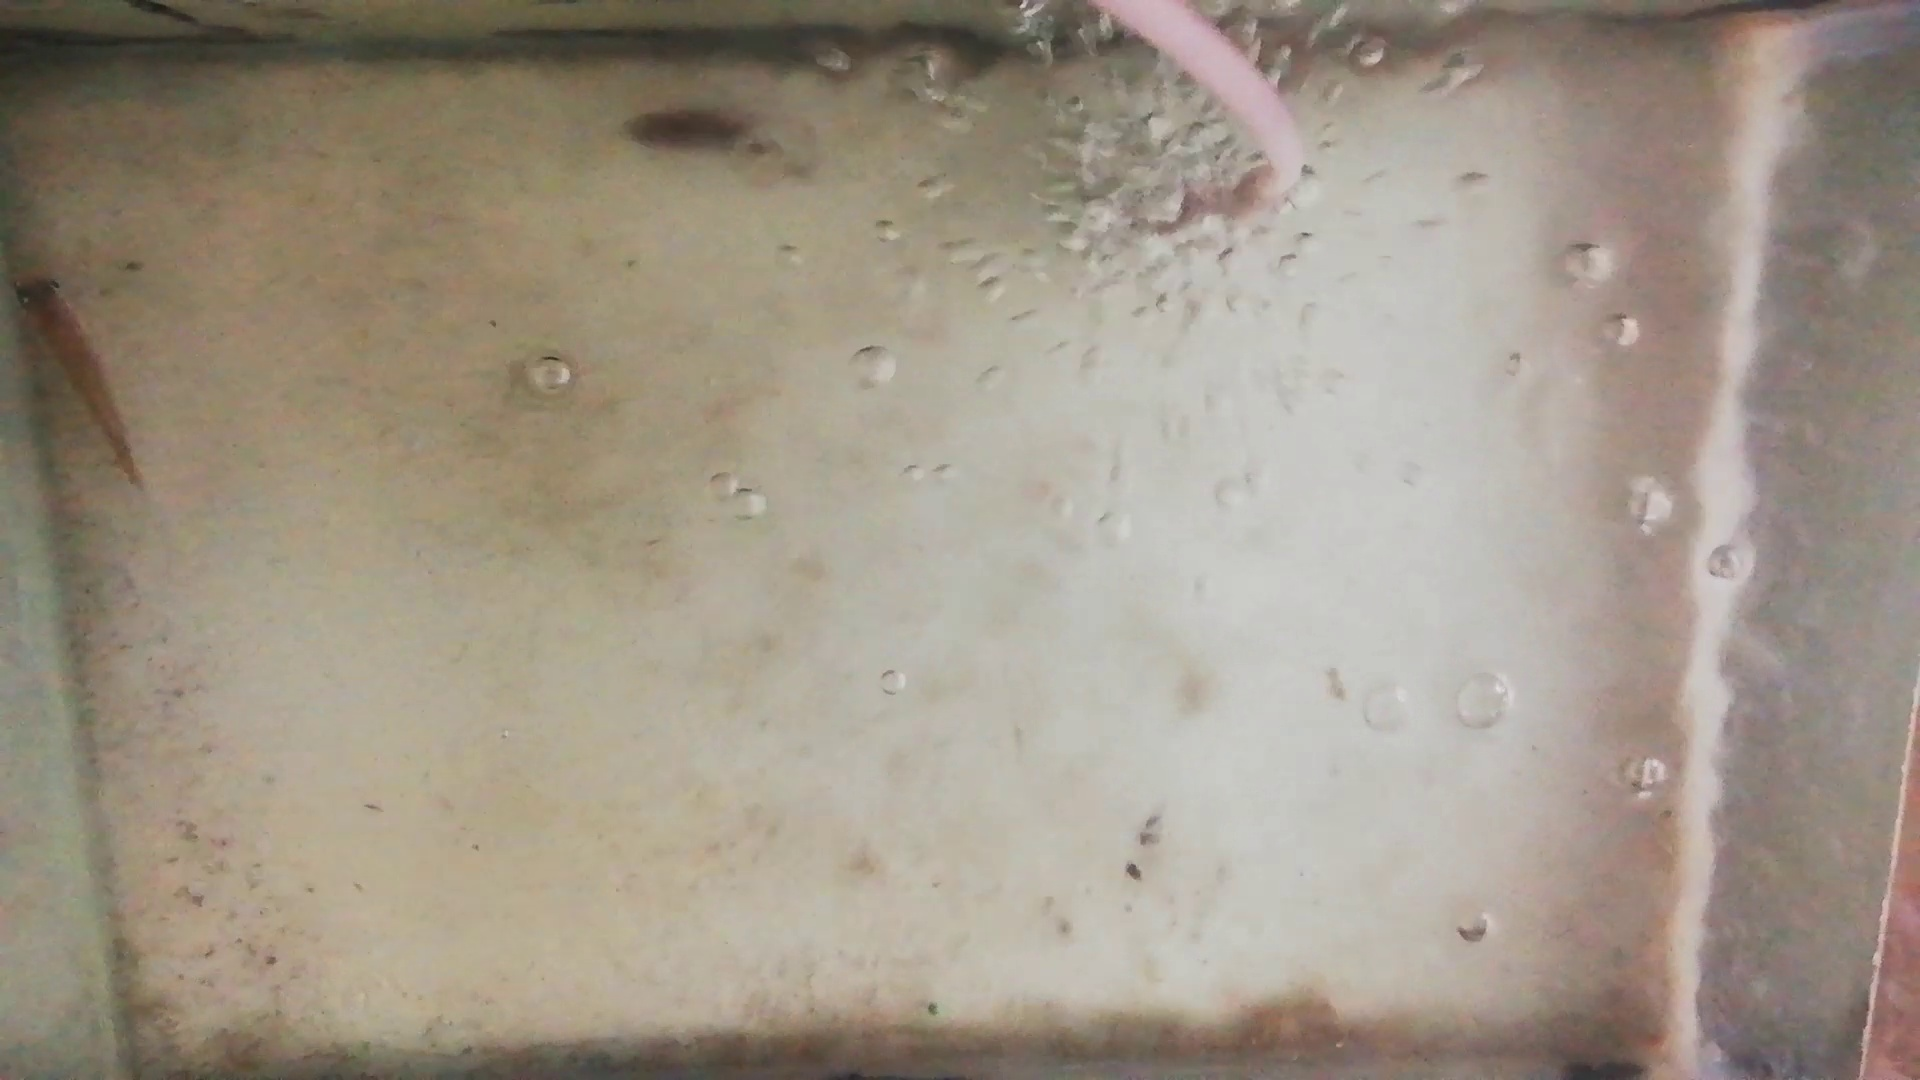fish: (11, 269, 137, 476), (622, 111, 799, 175)
